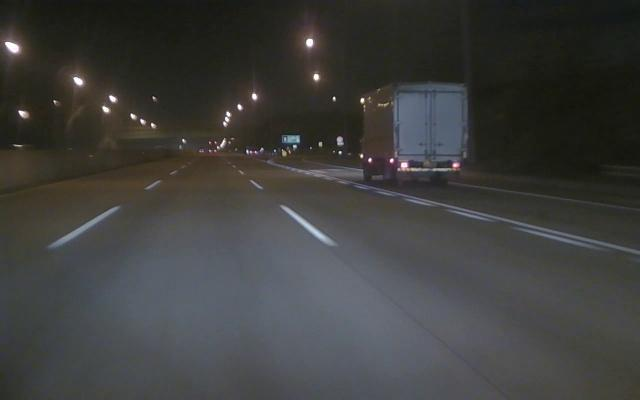lane: (337, 181, 637, 256), (30, 181, 159, 254), (248, 179, 340, 248)
